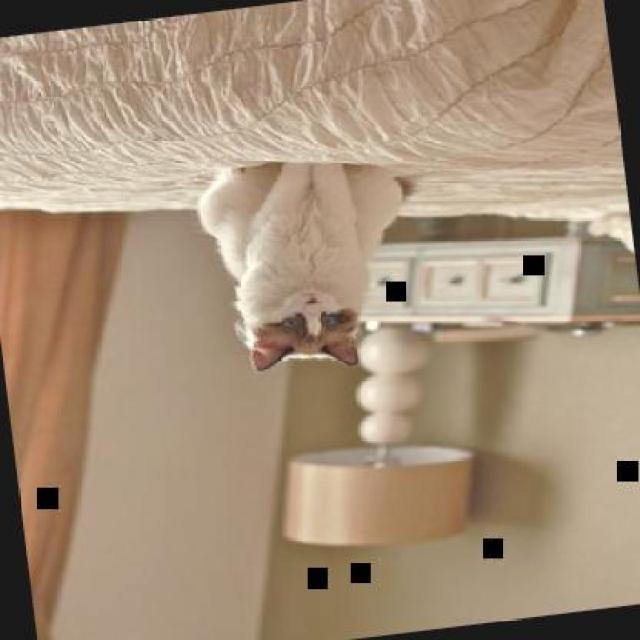cat: (192, 145, 423, 380)
